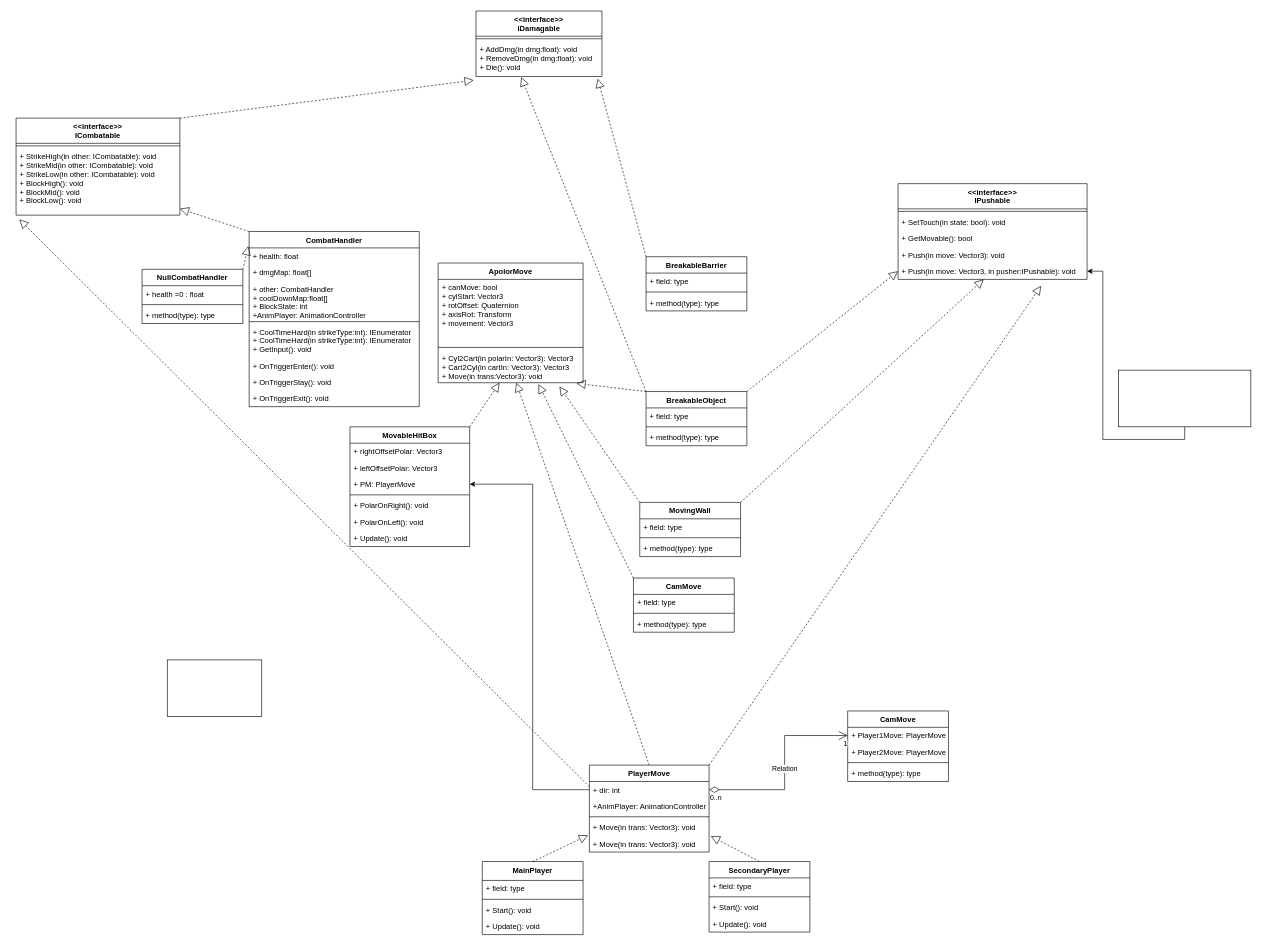
This 1262x948 diagram has some shape labels left out. Here are the shapes that lost their labels. From the top down, the centre of each, then its label:
At [1184,398]: "Comment: Pusher means the object trying to push THIS".
At [214,688]: "Comment: attributes kinda crap need to sort through later for essentials".
